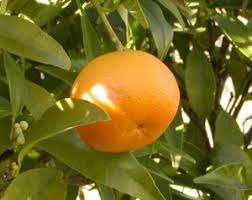orange: (67, 49, 182, 154)
